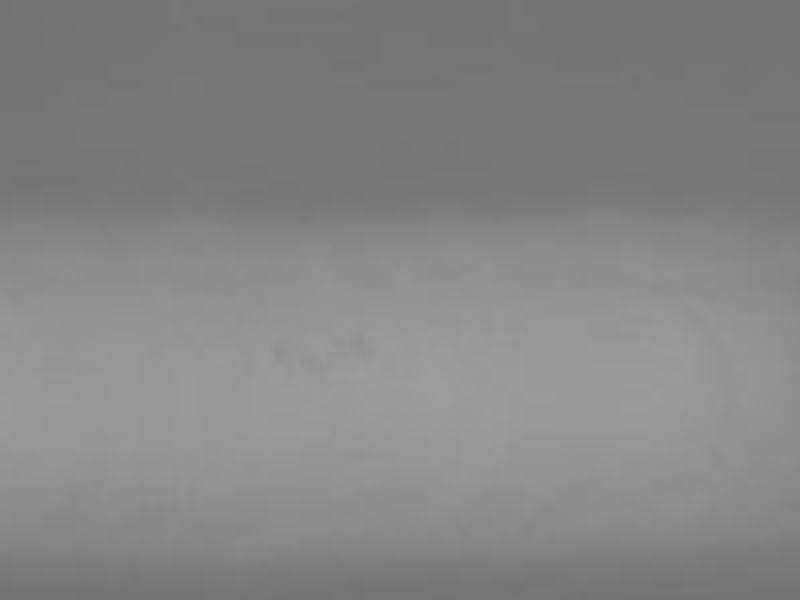defect: (267, 336, 296, 367), (348, 330, 375, 356)
